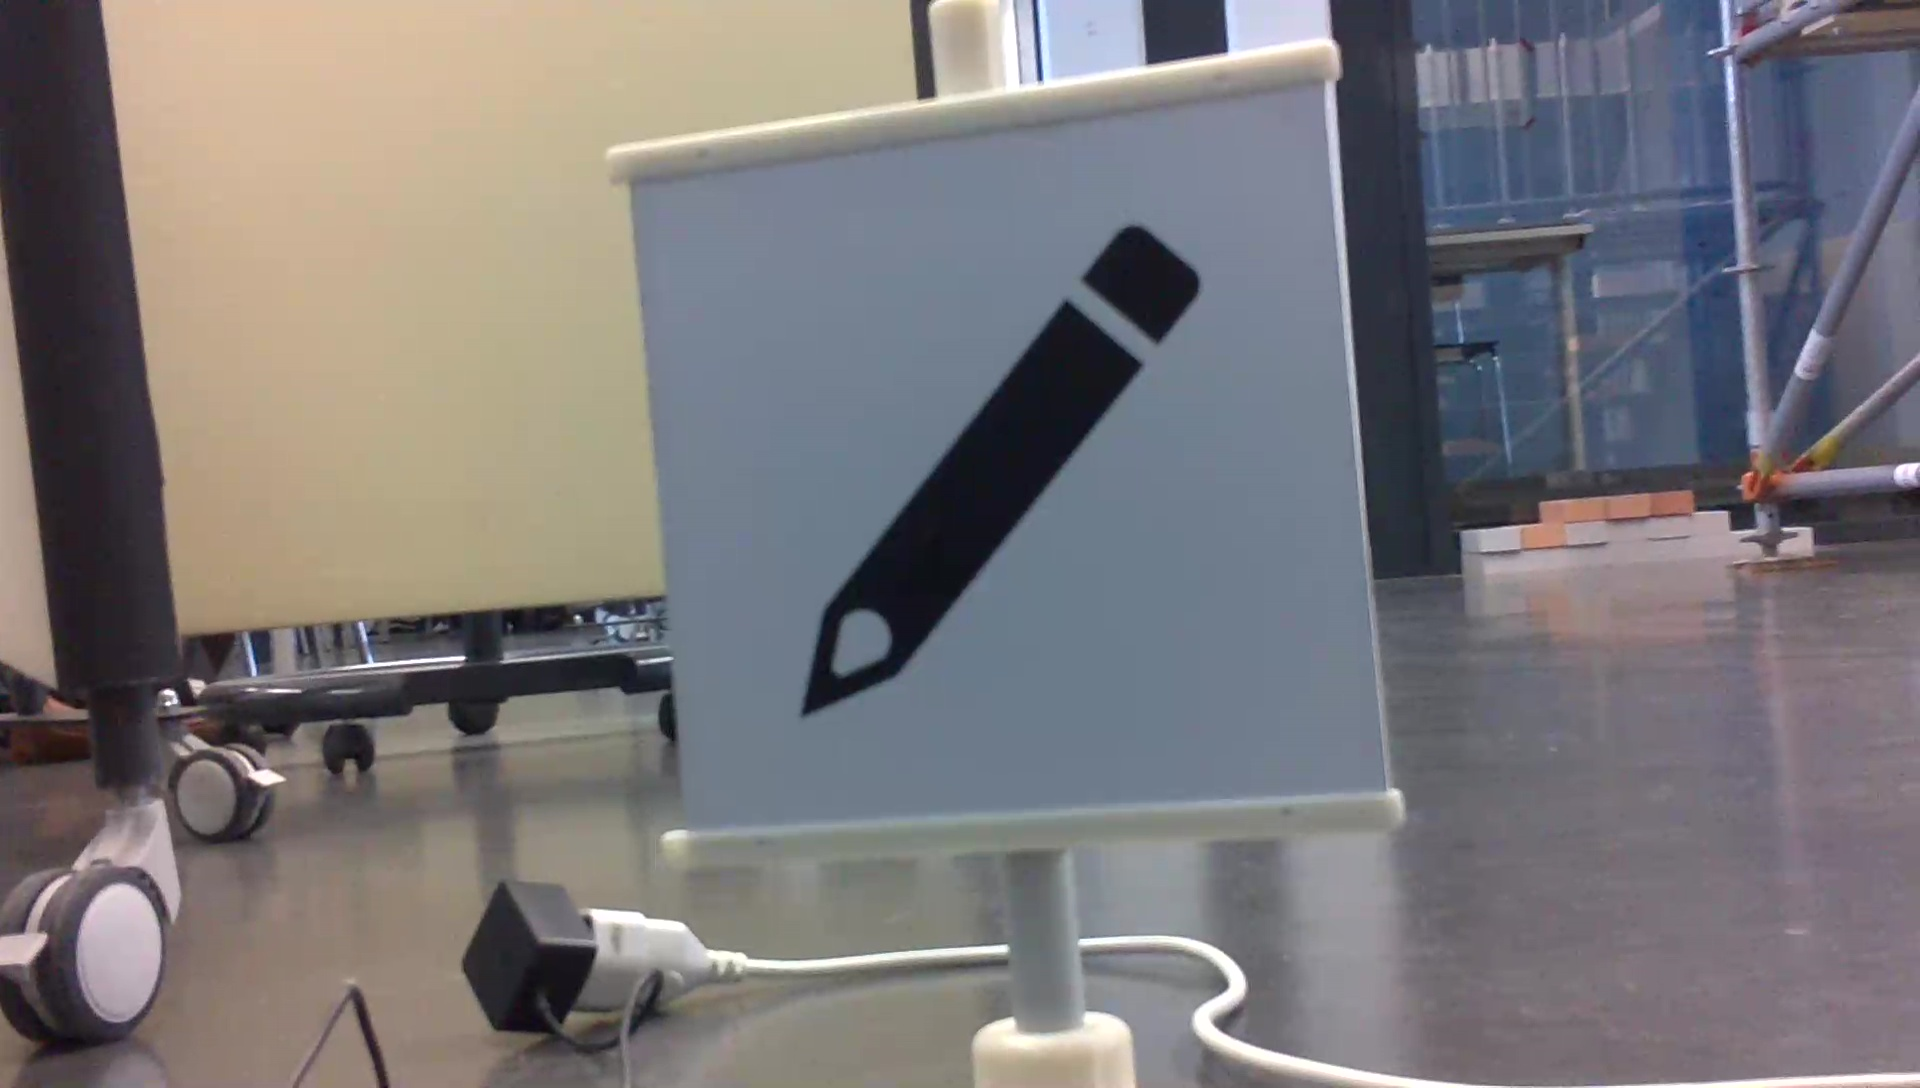pencil: (785, 207, 1211, 727)
